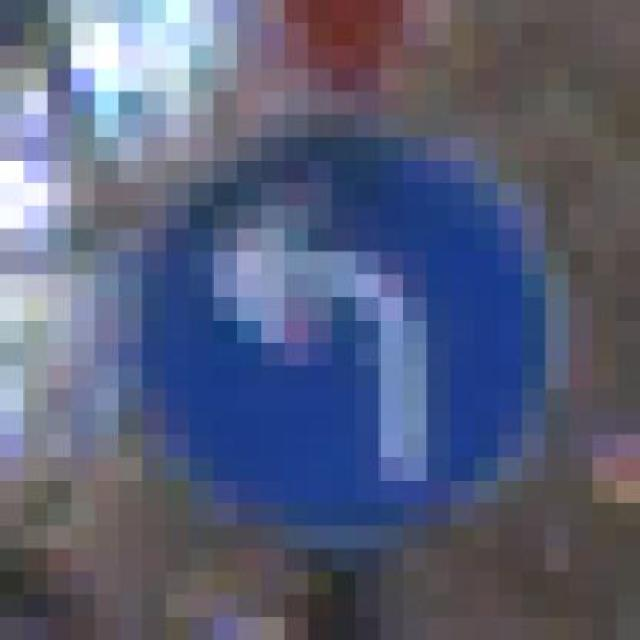Turn left ahead: (118, 114, 545, 549)
